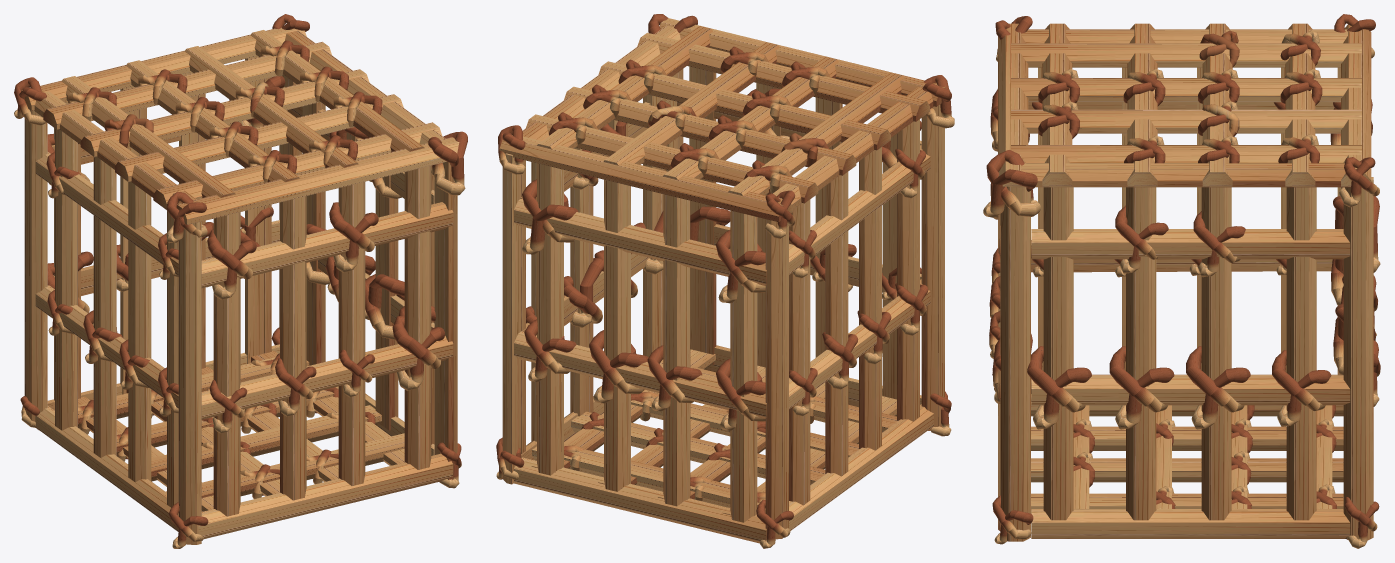
Rendered from gaiolaFechadaTexturizada.fbx.
3 renders of one model, left to right at view 1: azimuth 30°, elevation 25°; view 2: azimuth 150°, elevation 25°; view 3: azimuth 270°, elevation 25°, orthographic. The views are drawn at different scales.
Visible parts, largest first — view 1: GaiolaFechada; view 2: GaiolaFechada; view 3: GaiolaFechada.
Boxes of the visible parts, x1=… form: GaiolaFechada: x1=14, y1=14, x2=467, y2=548; GaiolaFechada: x1=496, y1=14, x2=954, y2=548; GaiolaFechada: x1=983, y1=14, x2=1380, y2=548.
Size of the model in its own units: 186 by 209 by 194.
1 material, 1 textured.
